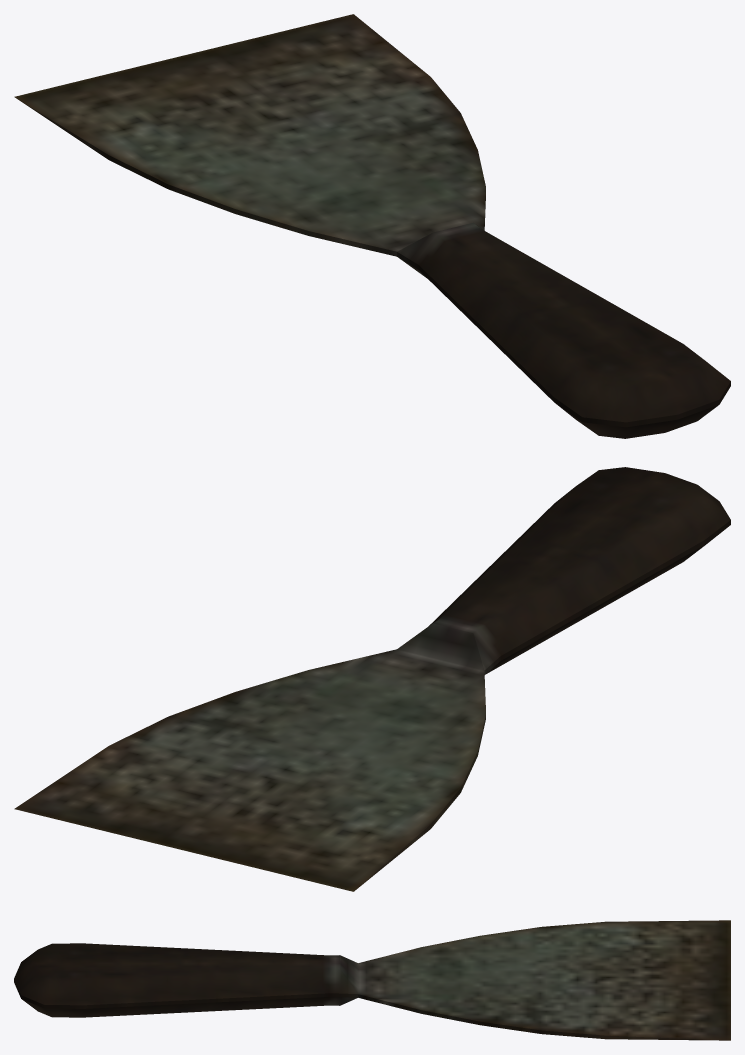
Rendered from misc_tool_mx_5.obj.
3 renders of one model, top to bottom at view 1: azimuth 30°, elevation 25°; view 2: azimuth 150°, elevation 25°; view 3: azimuth 270°, elevation 25°, orthographic. The views are drawn at different scales.
Parts seen in each view (by area): view 1: misc_tool_mx_5; view 2: misc_tool_mx_5; view 3: misc_tool_mx_5.
Part boxes in pixels (x1,y1,x2,y2): misc_tool_mx_5: [14, 14, 730, 438]; misc_tool_mx_5: [14, 467, 730, 891]; misc_tool_mx_5: [14, 920, 730, 1040].
Size of the model in its own units: 0.1422 by 0.02 by 0.3582.
